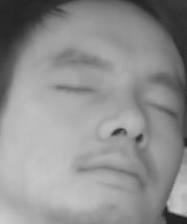blink: (56, 78, 95, 99), (149, 97, 181, 122)
mouth: (78, 147, 149, 196)
